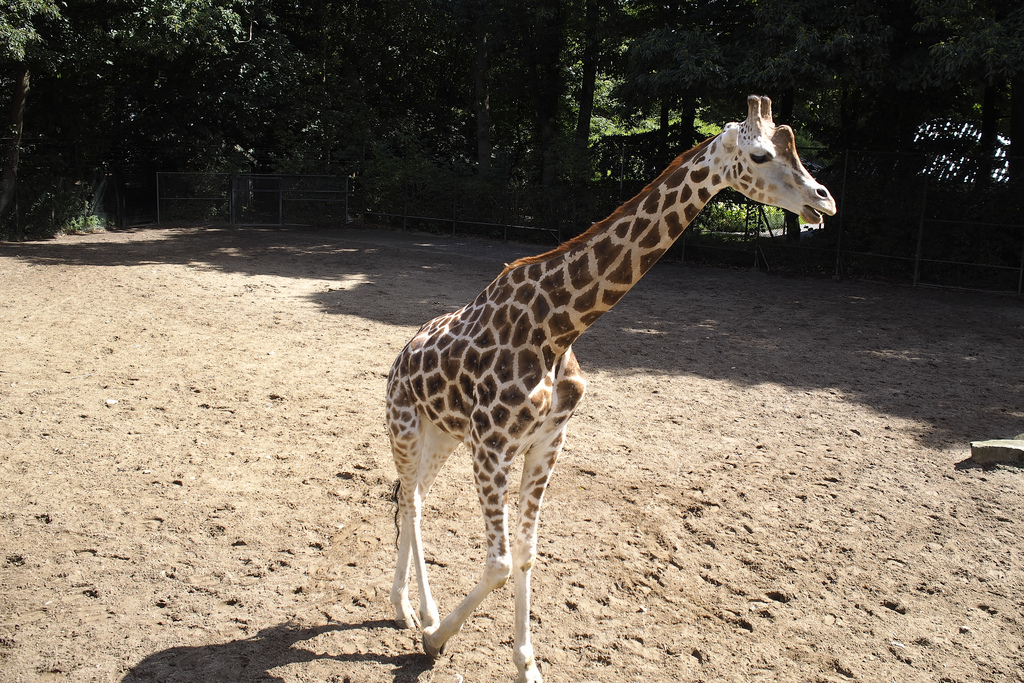giraffe: (317, 92, 859, 650)
